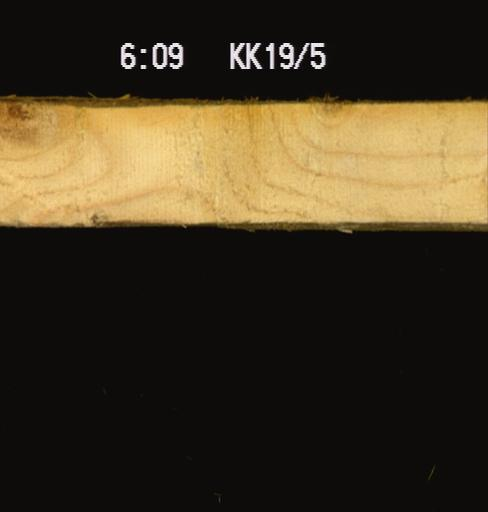edge_knot: (308, 98, 356, 130), (0, 98, 40, 128)
